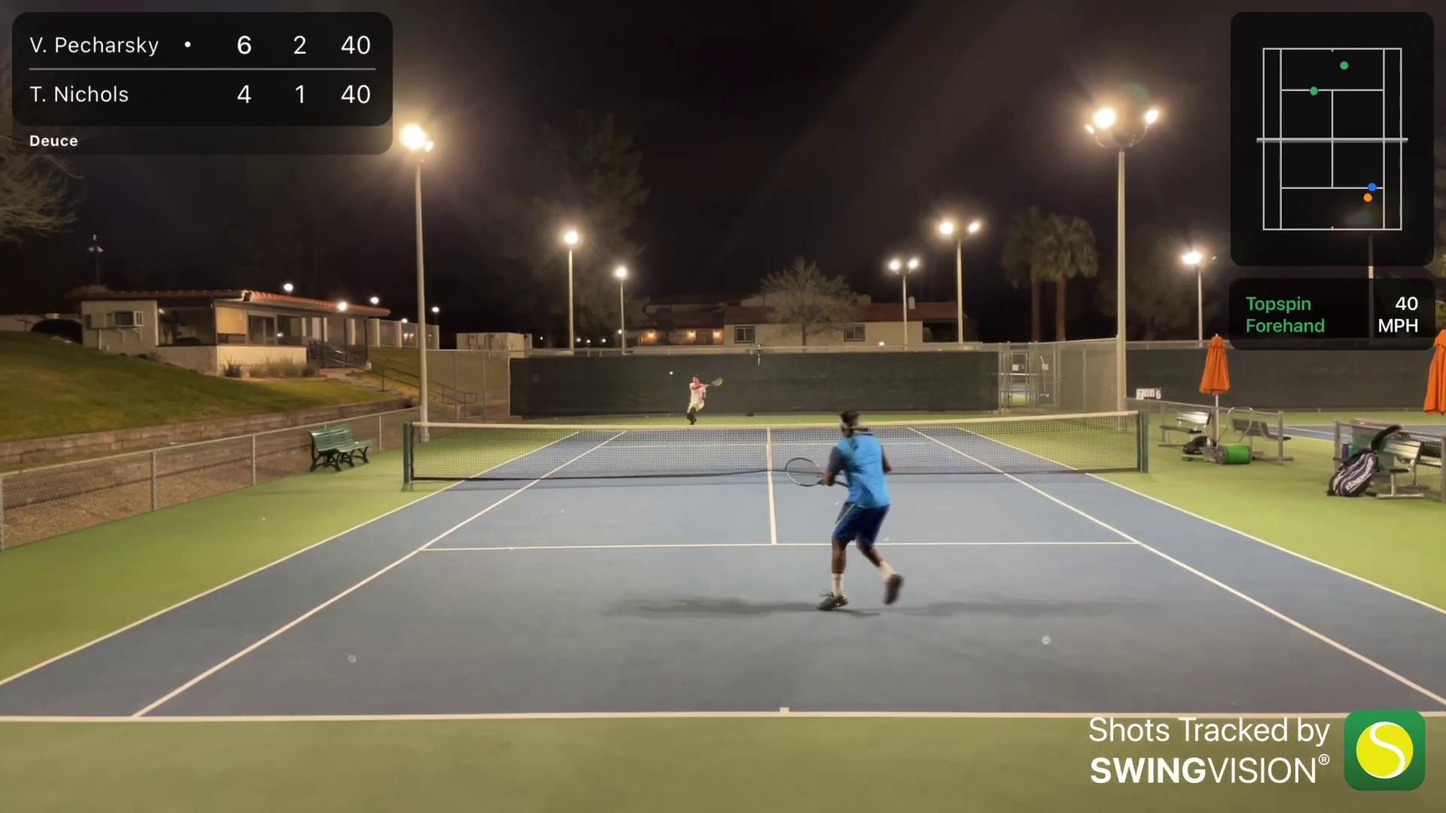ball: (668, 370, 675, 377)
